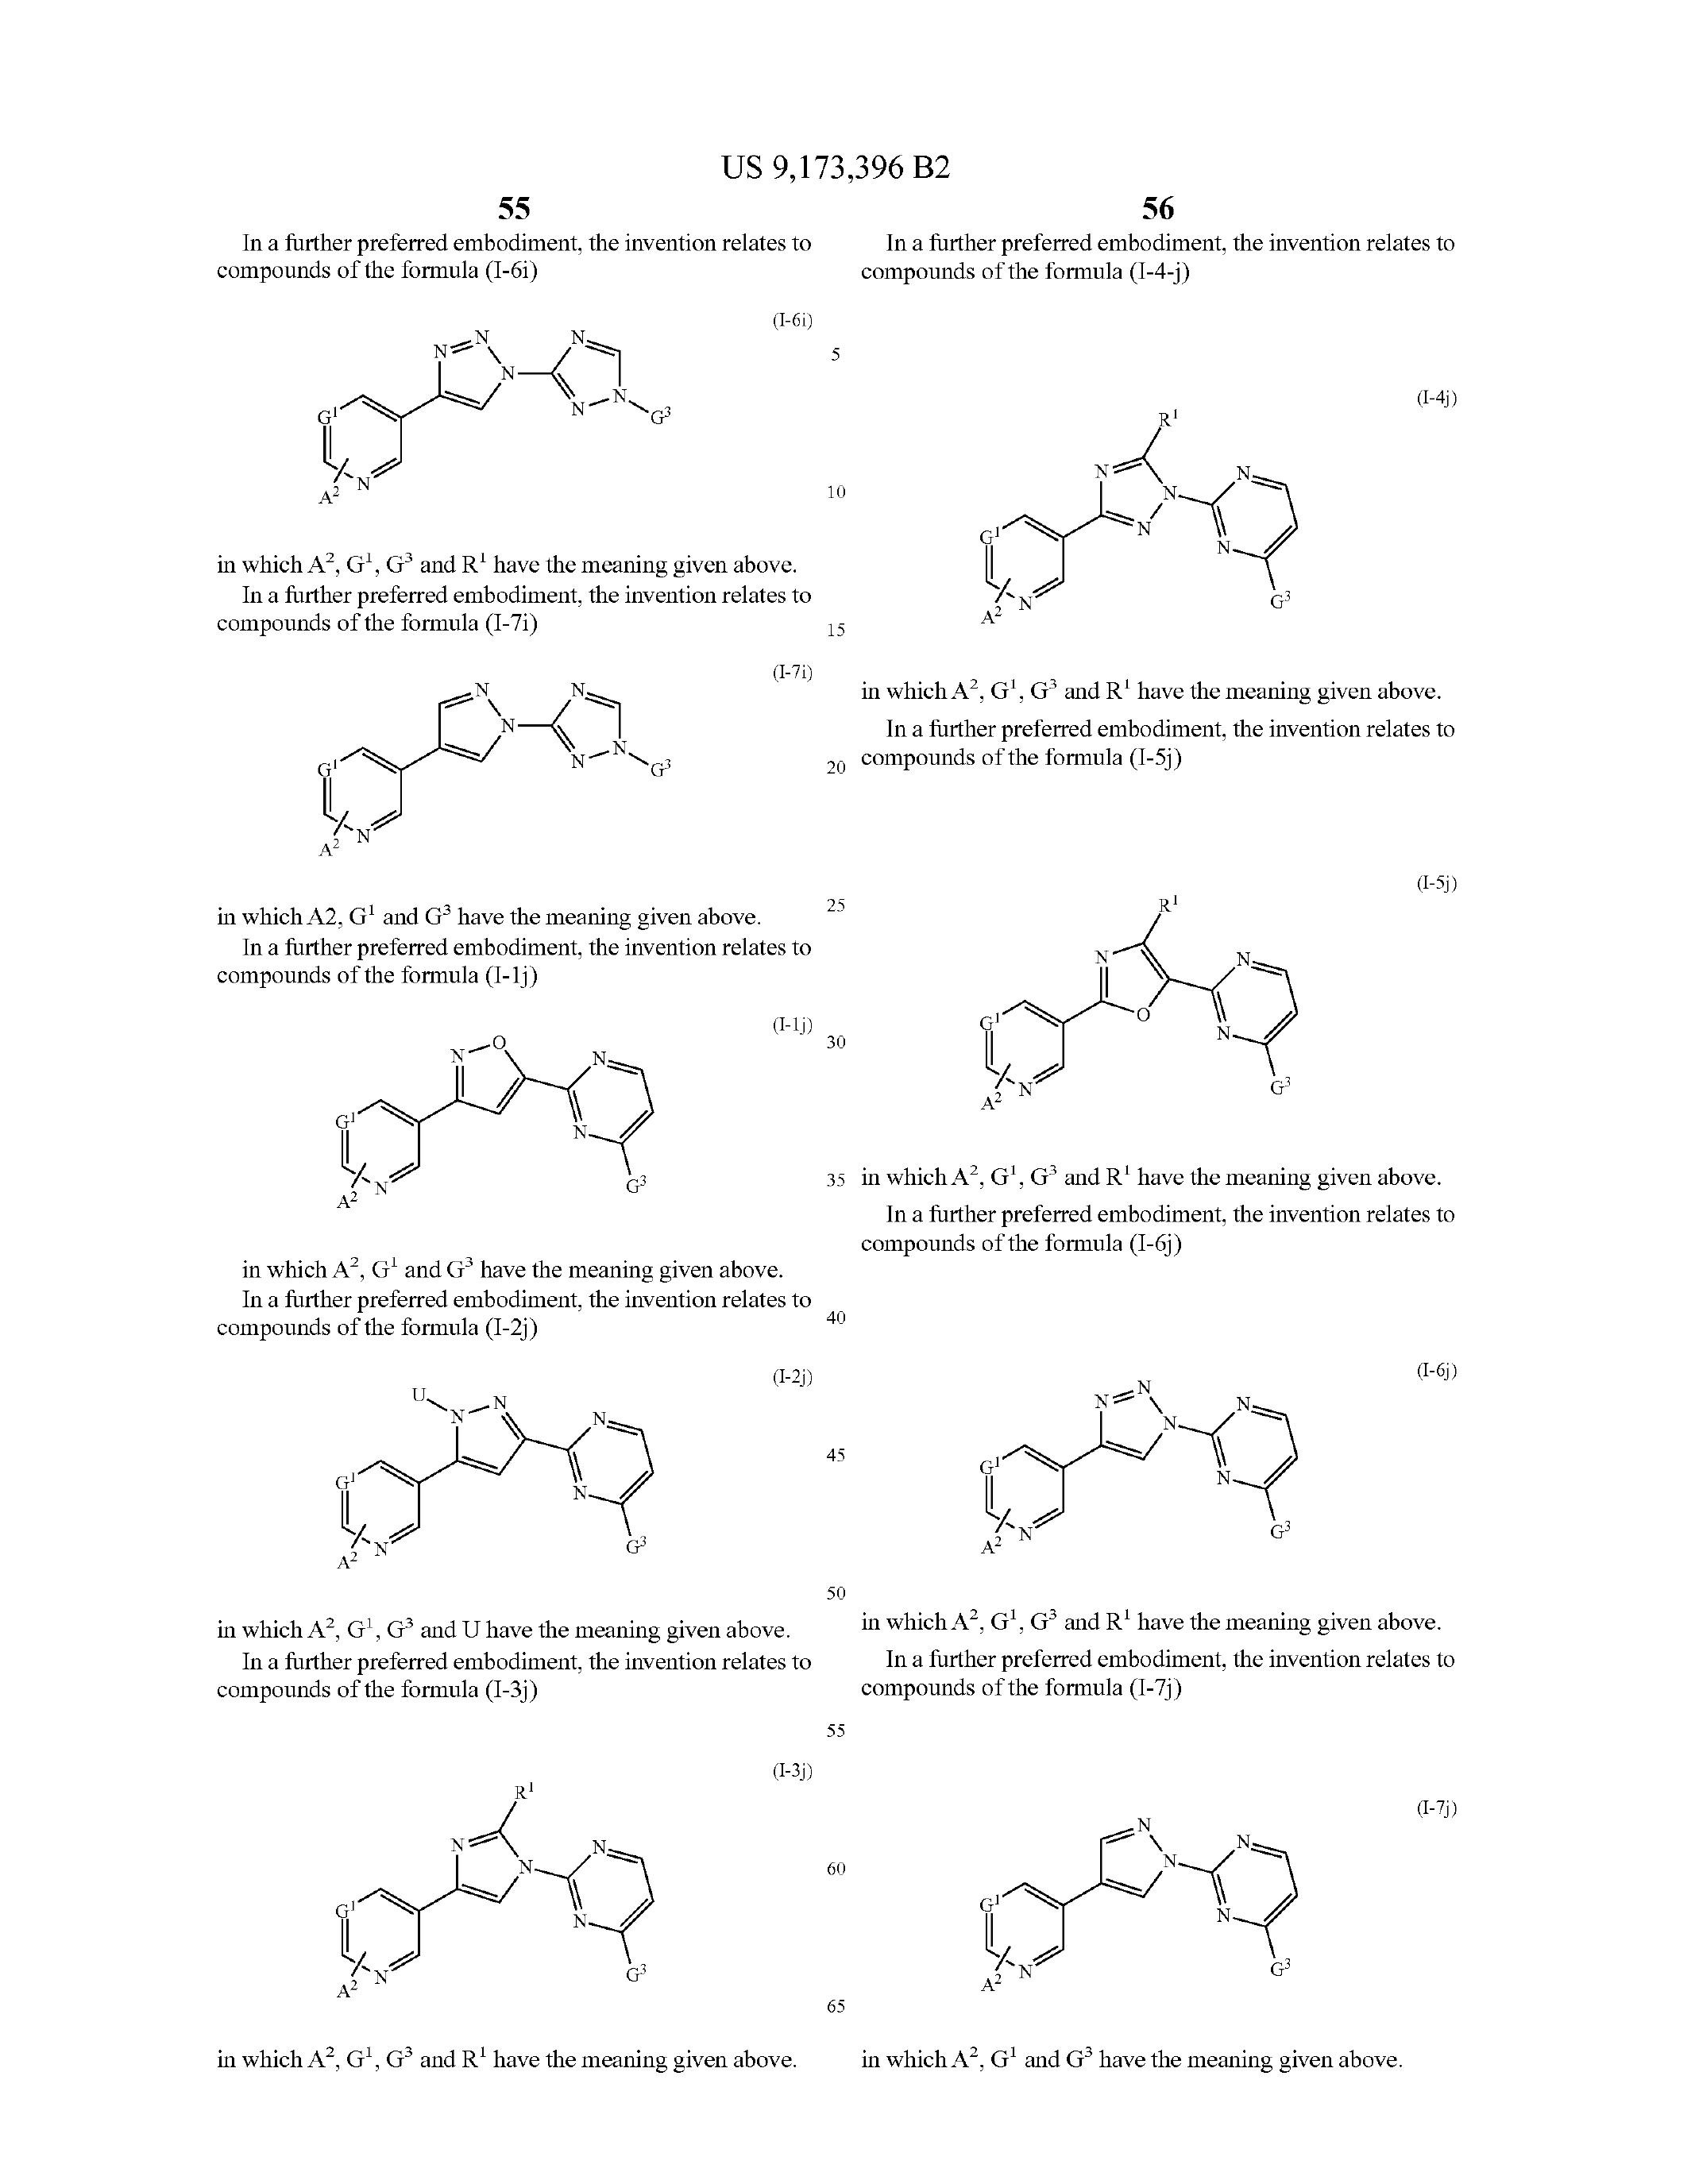substitutes: (885, 351, 1415, 638), (947, 1769, 1321, 1994)
